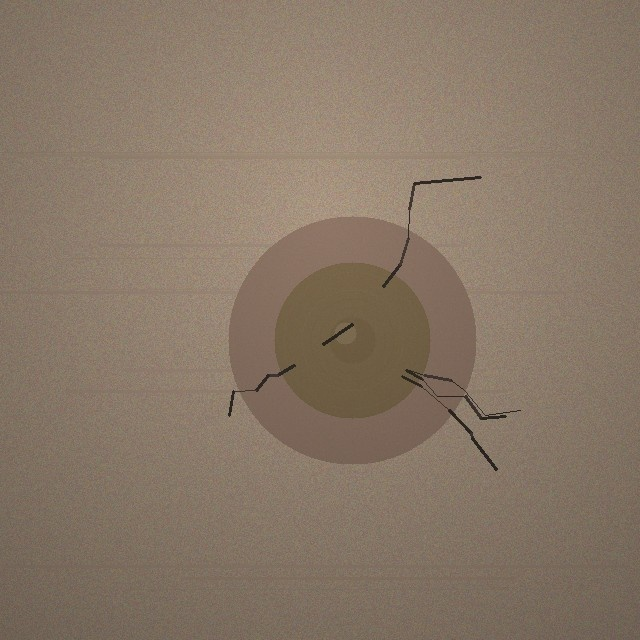crack: (228, 216, 476, 464)
